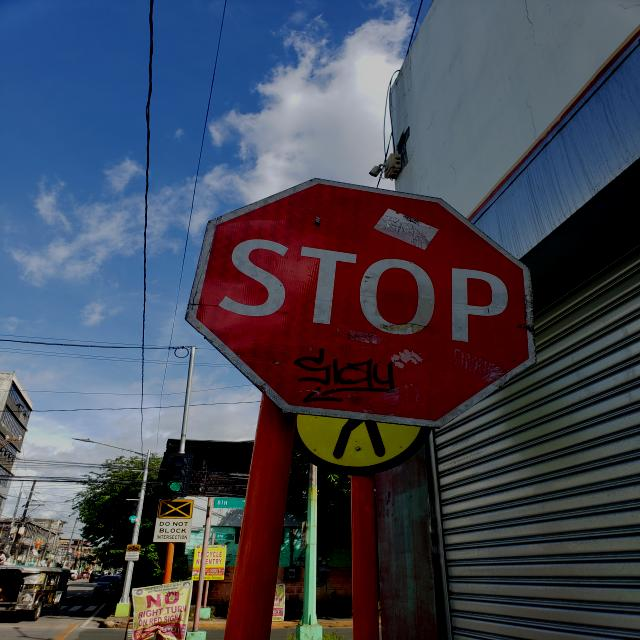stop-sign: (184, 177, 537, 429)
